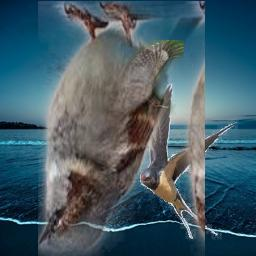Sparrow: (38, 1, 205, 256)
Swallow: (140, 83, 240, 241)
Woodpecker: (101, 40, 184, 147)
